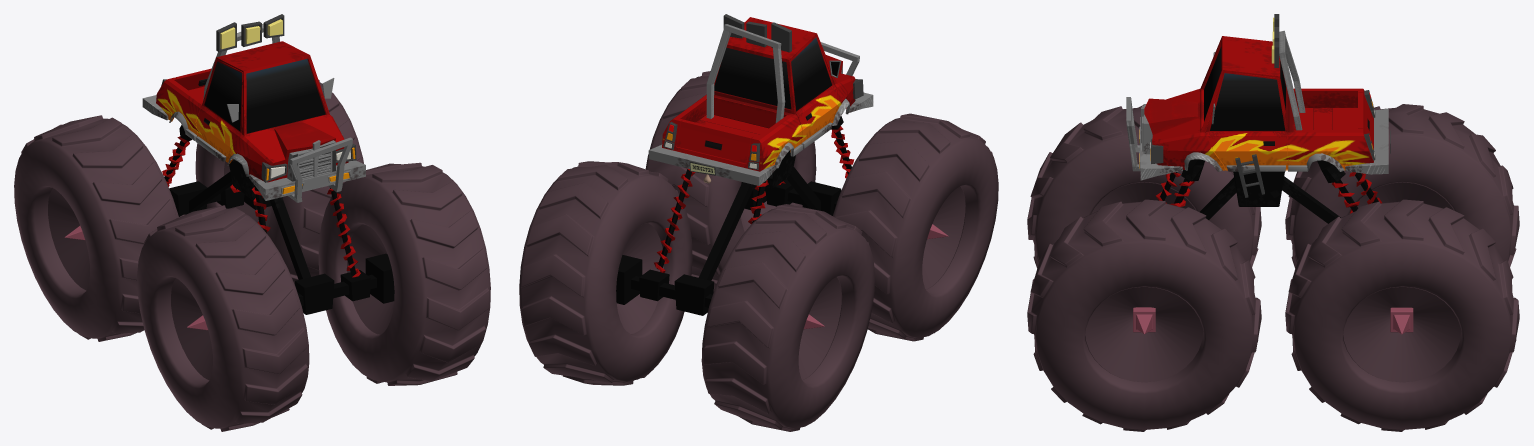
File: BigFoot.fbx
3 views of the same model, side by side, from view 1: azimuth 30°, elevation 25°; view 2: azimuth 150°, elevation 25°; view 3: azimuth 270°, elevation 25° (orthographic). The views are drawn at different scales.
Parts seen in each view (by area): view 1: GEO_Chassis; view 2: GEO_Chassis; view 3: GEO_Chassis.
Boxes of the visible parts, left/top/right/bottom form: GEO_Chassis: left=14, top=14, right=490, bottom=431; GEO_Chassis: left=519, top=14, right=998, bottom=431; GEO_Chassis: left=1027, top=14, right=1519, bottom=431.
Size of the model in its own units: 176 by 203 by 260.
